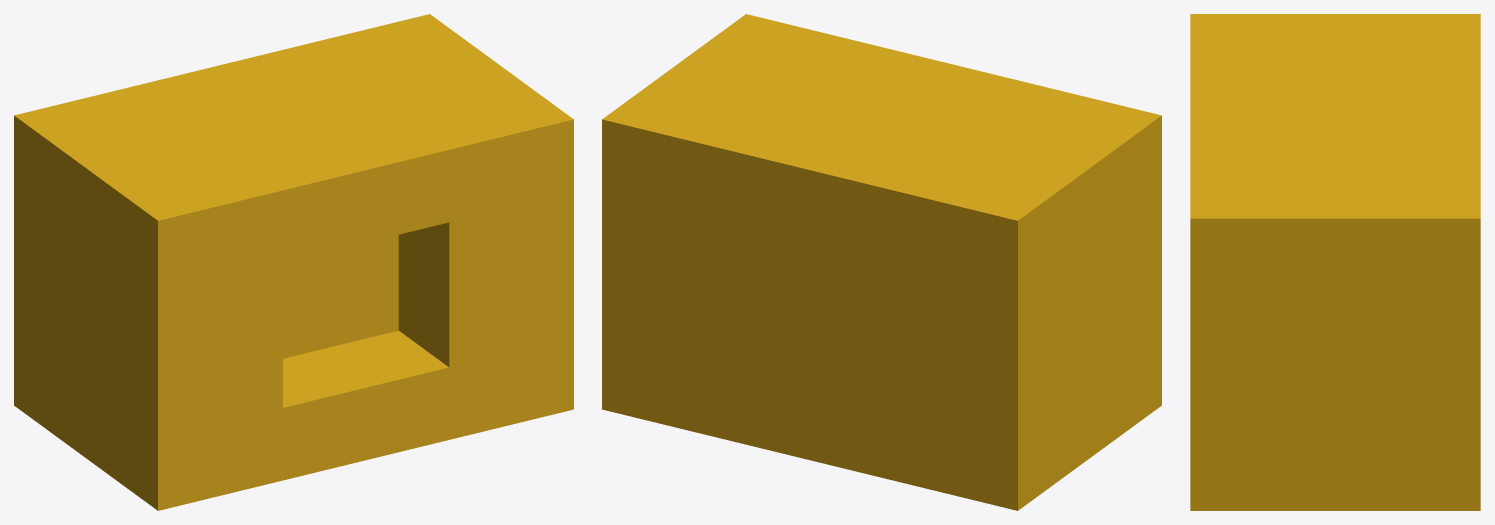
Rendered from block.obj.
3 renders of one model, left to right at view 1: azimuth 30°, elevation 25°; view 2: azimuth 150°, elevation 25°; view 3: azimuth 270°, elevation 25°, orthographic.
Bounding box in the file's own units: 0.03 × 0.02 × 0.018.
